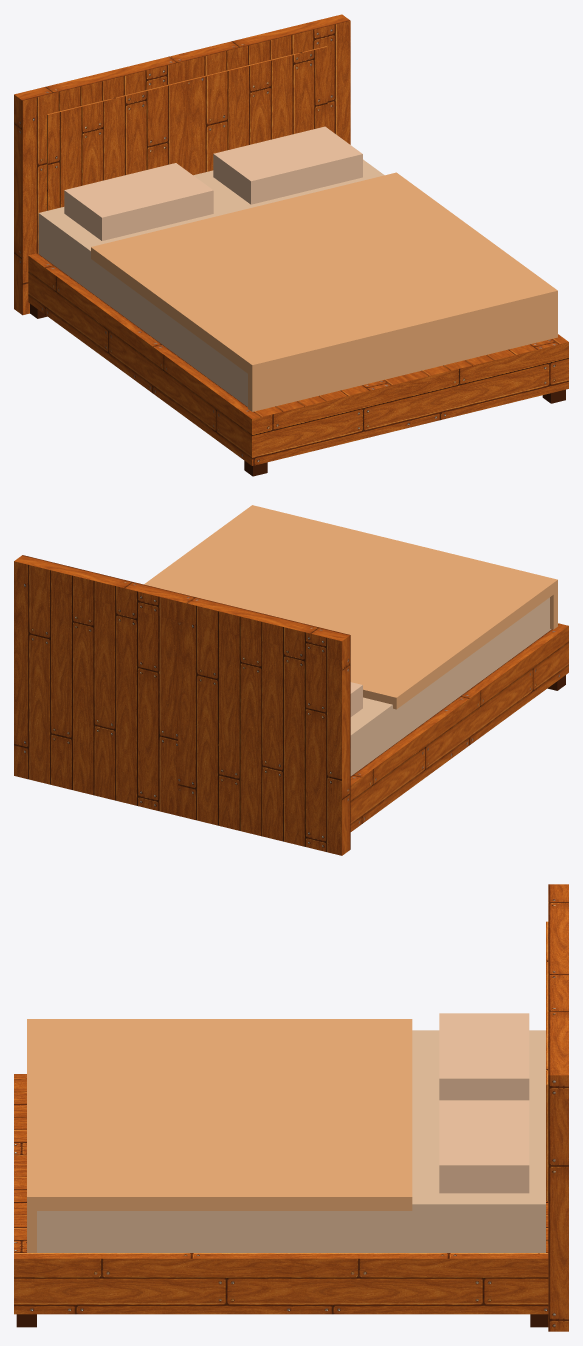
The model's file is Bed.fbx.
3 views of the same model, one above another, from view 1: azimuth 30°, elevation 25°; view 2: azimuth 150°, elevation 25°; view 3: azimuth 270°, elevation 25° (orthographic). The views are drawn at different scales.
Parts seen in each view (by area): view 1: Bed; view 2: Bed; view 3: Bed.
Boxes of the visible parts, box(x1,y1,x2,y2) form: Bed: box(14, 14, 568, 476); Bed: box(14, 505, 568, 855); Bed: box(14, 884, 568, 1331).
Bounding box in the file's own units: 1.76 × 1.1 × 2.16.
